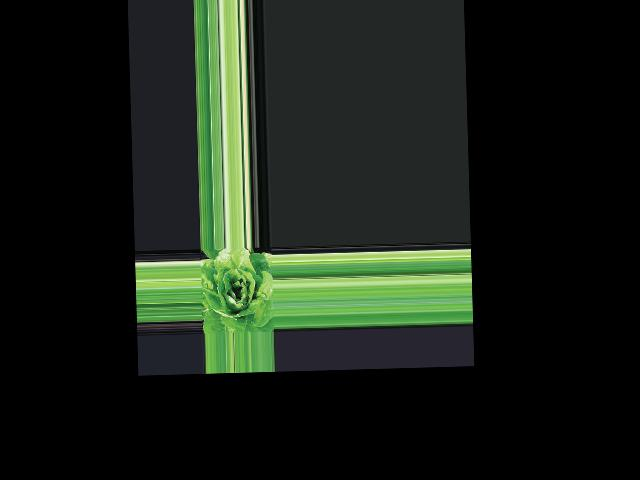lettuce: (199, 250, 271, 332)
